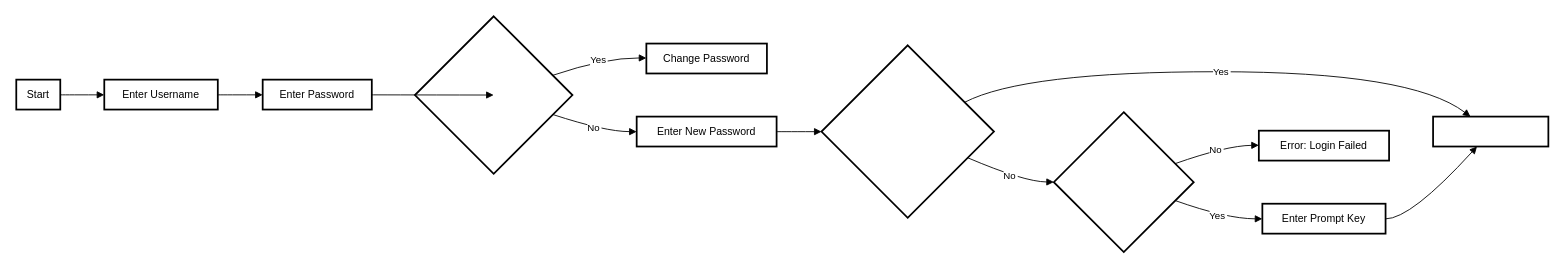
The diagram is 1564 pixels wide and 268 high, and some of its shapes have lost their labels. Each missing label, with the centre of its shape:
"Login Attempt Valid?" belongs at point (907, 131).
"Login Successful" belongs at point (1490, 131).
"Password Expired?" belongs at point (493, 94).
"Prompt Enable?" belongs at point (1123, 182).
